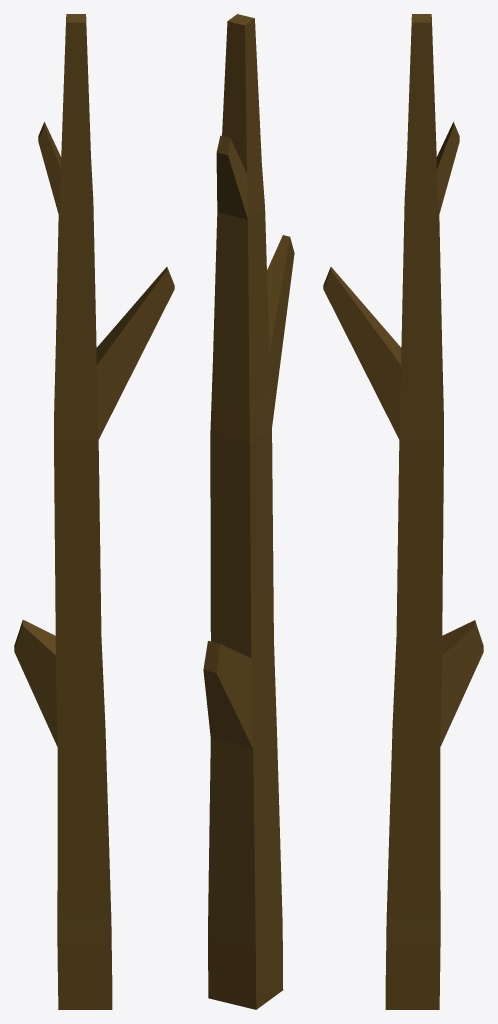
The model's file is bâton stick.fbx.
3 renders of one model, left to right at view 1: azimuth 90°, elevation 25°; view 2: azimuth 150°, elevation 25°; view 3: azimuth 270°, elevation 25°, orthographic.
Parts seen in each view (by area): view 1: Stick; view 2: Stick; view 3: Stick.
Part boxes in pixels (box(x1,y1,x2,y2)): Stick: box(14, 14, 174, 1009); Stick: box(203, 14, 294, 1009); Stick: box(323, 14, 483, 1009).
Bounding box in the file's own units: 71.29 × 1391 × 206.
